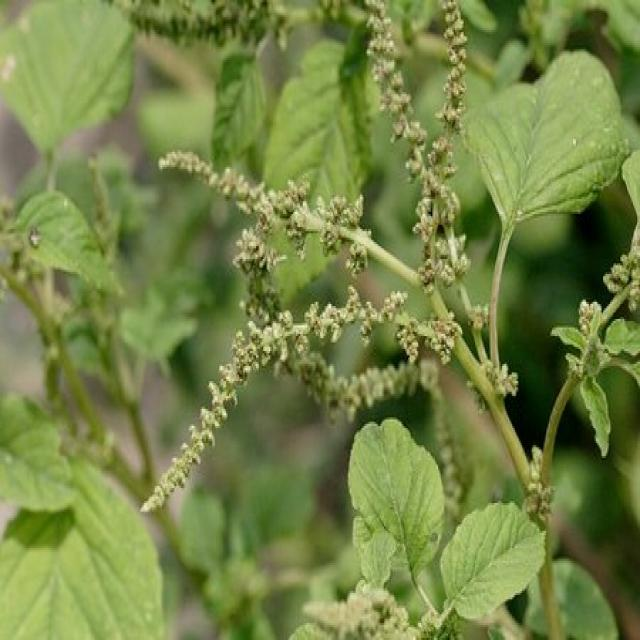Medicinal-Arive Dantu: (148, 0, 600, 627), (0, 245, 145, 640)
